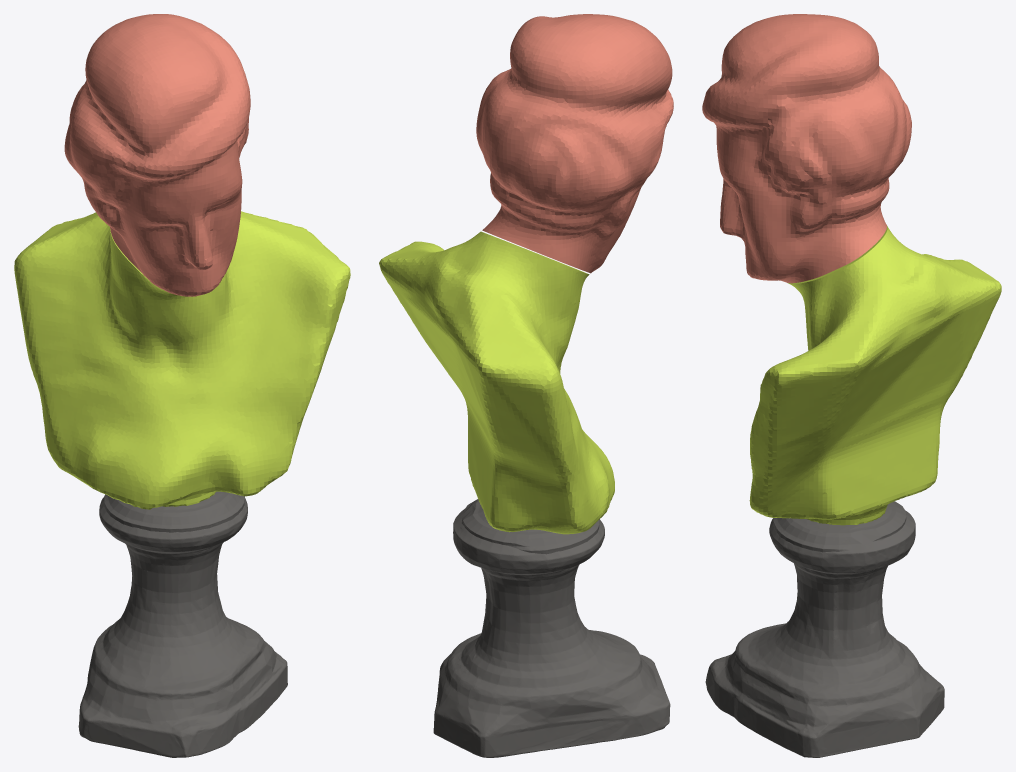
3 views of the same model, side by side, from view 1: azimuth 30°, elevation 25°; view 2: azimuth 150°, elevation 25°; view 3: azimuth 270°, elevation 25° (orthographic). The views are drawn at different scales.
Parts seen in each view (by area): view 1: part_0, part_0.001, part_1; view 2: part_0, part_0.001, part_1; view 3: part_0, part_0.001, part_1.
Boxes of the visible parts, x1,y1,x2,y2 form: part_0: (14, 211, 350, 509); part_0.001: (64, 14, 250, 296); part_1: (78, 491, 287, 757); part_0: (379, 231, 614, 534); part_0.001: (476, 14, 673, 273); part_1: (433, 499, 670, 757); part_0: (749, 226, 1001, 525); part_0.001: (702, 14, 911, 283); part_1: (705, 501, 944, 757).
Size of the model in its own units: 0.752 by 1.9 by 0.7637.
